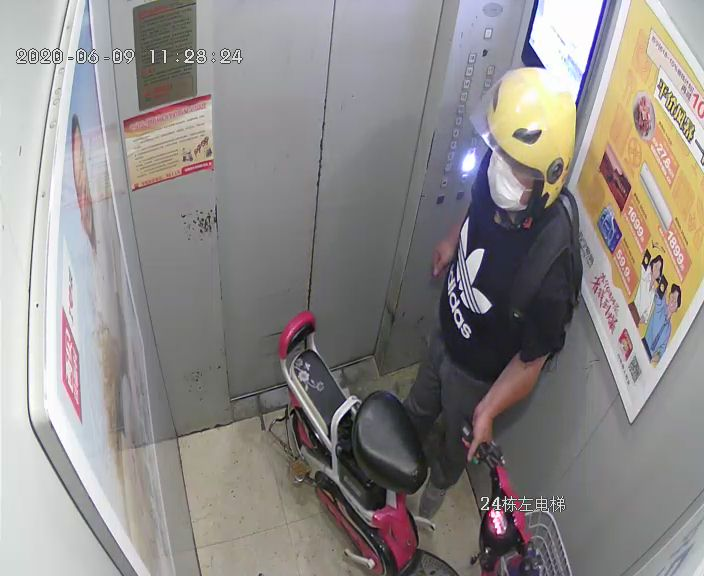Electric-bicycle: (267, 310, 576, 576)
